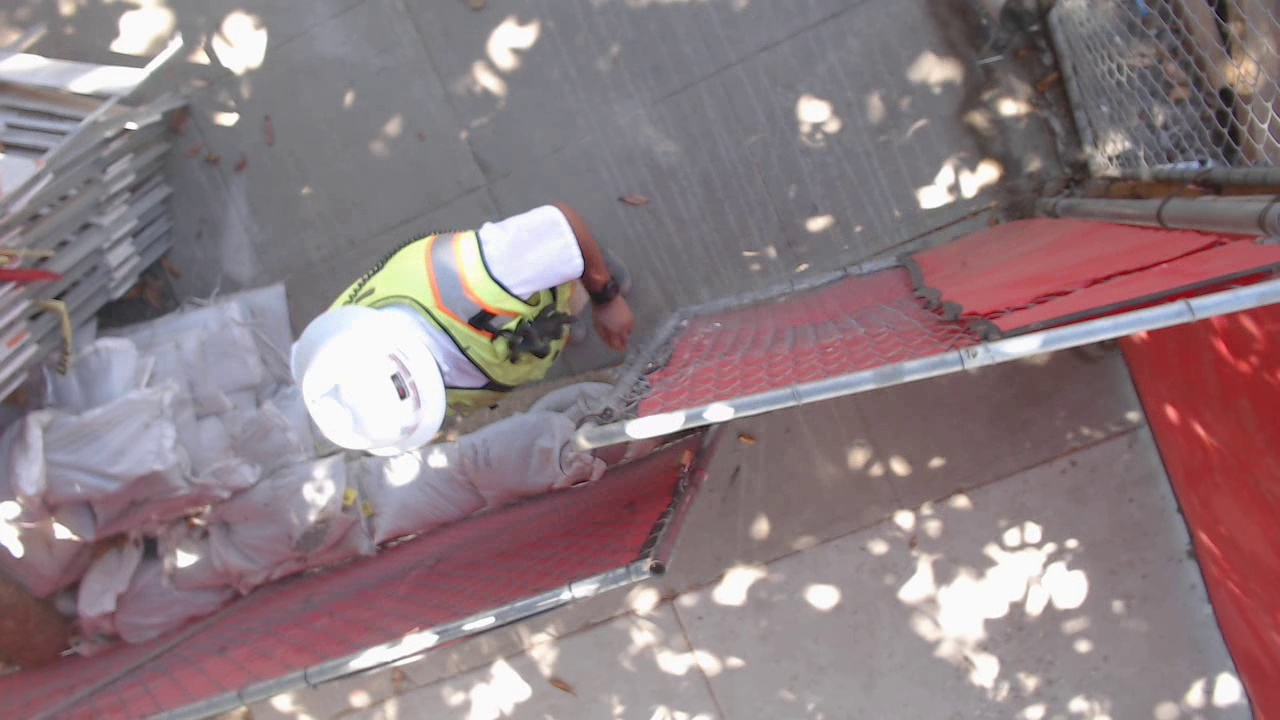green: (608, 446, 662, 465)
hardhat: (559, 295, 718, 464)
person: (544, 194, 839, 462)
safetyvest: (544, 236, 793, 406)
